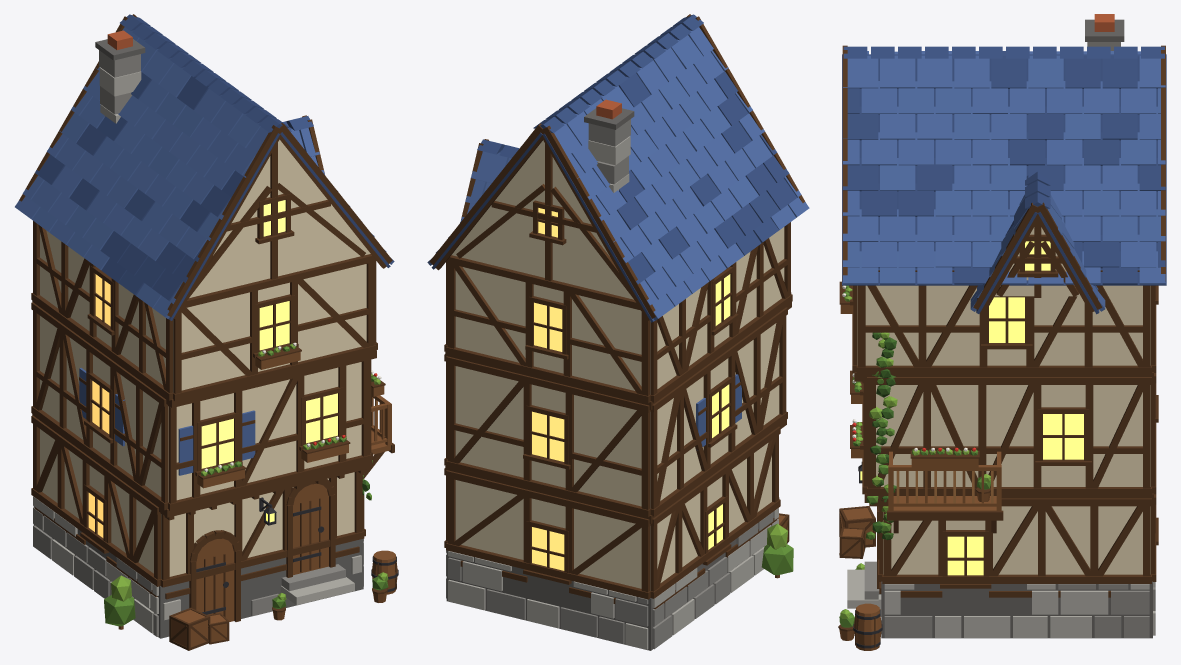
The model's file is Town_02_BlueBanner.fbx.
3 views of the same model, side by side, from view 1: azimuth 30°, elevation 25°; view 2: azimuth 150°, elevation 25°; view 3: azimuth 270°, elevation 25° (orthographic). The views are drawn at different scales.
Parts seen in each view (by area): view 1: Town_02_BlueBanner_LOD0; view 2: Town_02_BlueBanner_LOD0; view 3: Town_02_BlueBanner_LOD0.
Boxes of the visible parts, x1,y1,x2,y2 form: Town_02_BlueBanner_LOD0: (15, 14, 398, 650); Town_02_BlueBanner_LOD0: (427, 14, 809, 650); Town_02_BlueBanner_LOD0: (838, 14, 1166, 650).
Size of what is drawn, in the model's own units: 6.58 by 11.73 by 6.37.
